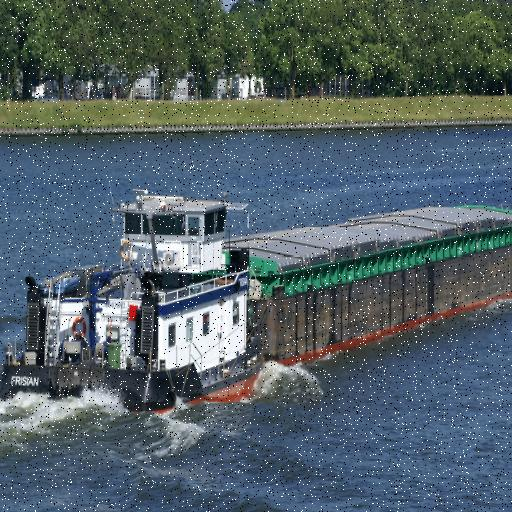tugboat: (1, 179, 270, 429)
